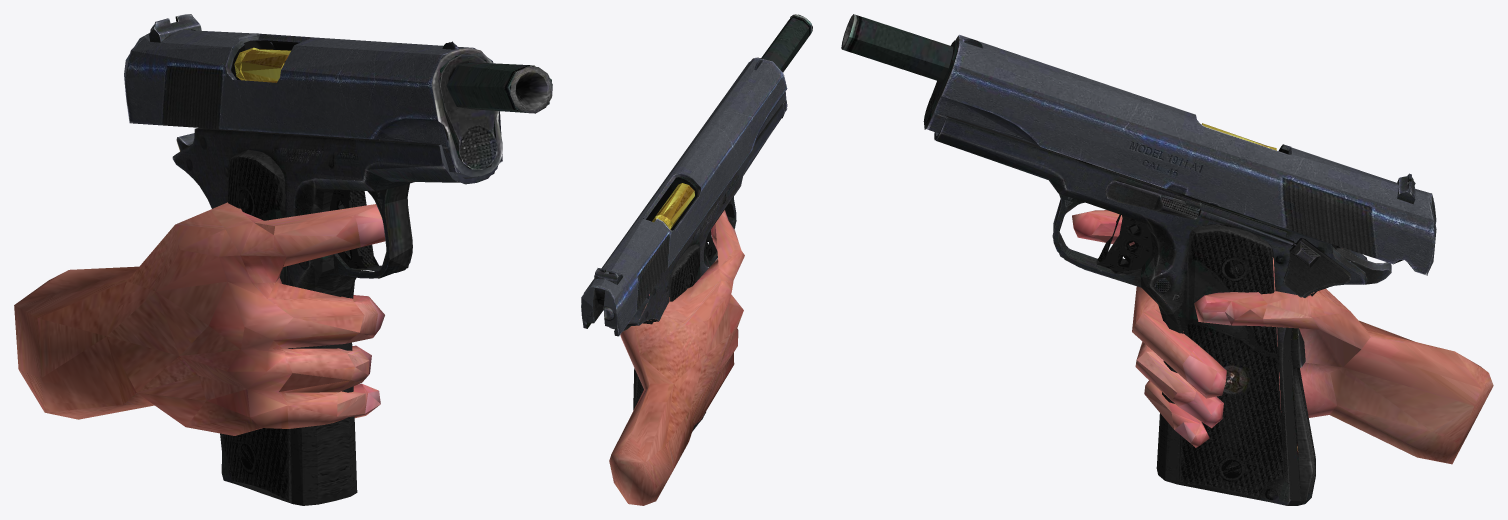
File: Gun_000006.obj
The picture shows the model from 3 angles, left to right: view 1: azimuth 30°, elevation 25°; view 2: azimuth 150°, elevation 25°; view 3: azimuth 270°, elevation 25°; orthographic projection. The views are drawn at different scales.
Parts seen in each view (by area): view 1: ZBrushPolyMesh3D, Mesh_0008, Slide, BulletShell, Trigger; view 2: ZBrushPolyMesh3D, Slide, Mesh_0008, BulletShell; view 3: Mesh_0008, Slide, ZBrushPolyMesh3D, Trigger.
Part boxes in pixels (x1,y1,x2,y2): ZBrushPolyMesh3D: [14, 202, 385, 435]; Mesh_0008: [172, 62, 552, 505]; Slide: [124, 14, 502, 176]; BulletShell: [234, 47, 290, 82]; Trigger: [329, 189, 378, 268]; ZBrushPolyMesh3D: [609, 210, 744, 505]; Slide: [581, 57, 787, 336]; Mesh_0008: [609, 14, 812, 431]; BulletShell: [652, 183, 694, 229]; Mesh_0008: [841, 14, 1391, 505]; Slide: [923, 34, 1436, 275]; ZBrushPolyMesh3D: [1072, 210, 1493, 464]; Trigger: [1096, 214, 1152, 274].
Bounding box in the file's own units: 0.8857 × 2.46 × 3.01.
